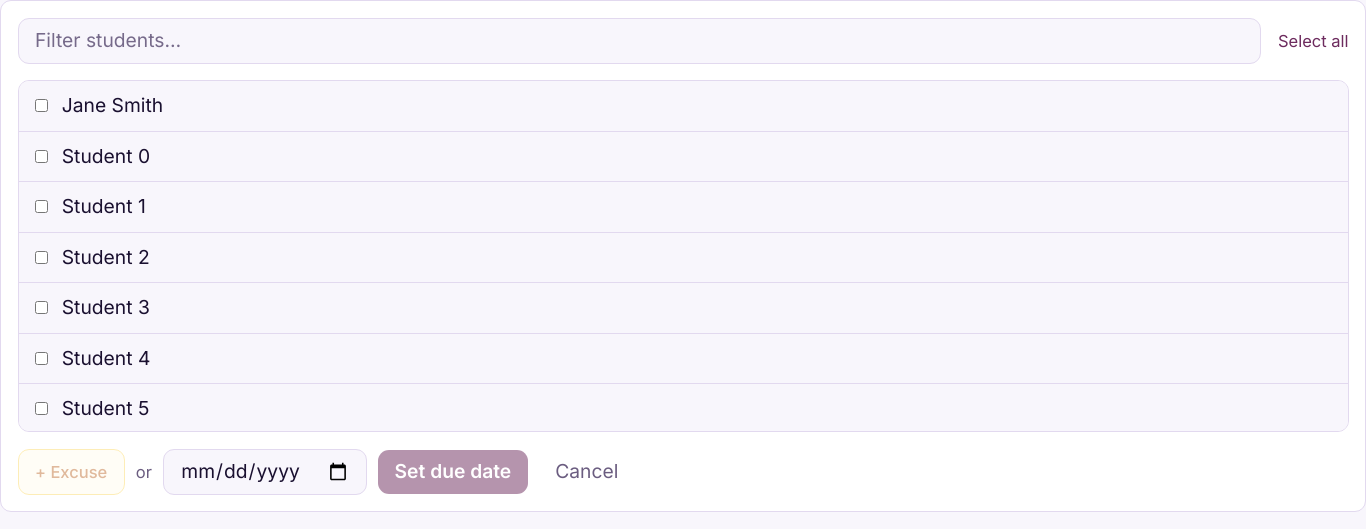
it: OverrideStudentChecklist › filters a long roster by name without losing ticks
The image size is (1366, 529).
Click the checkbox labelled "Student 3" at (42, 308), box [35,301,48,314]
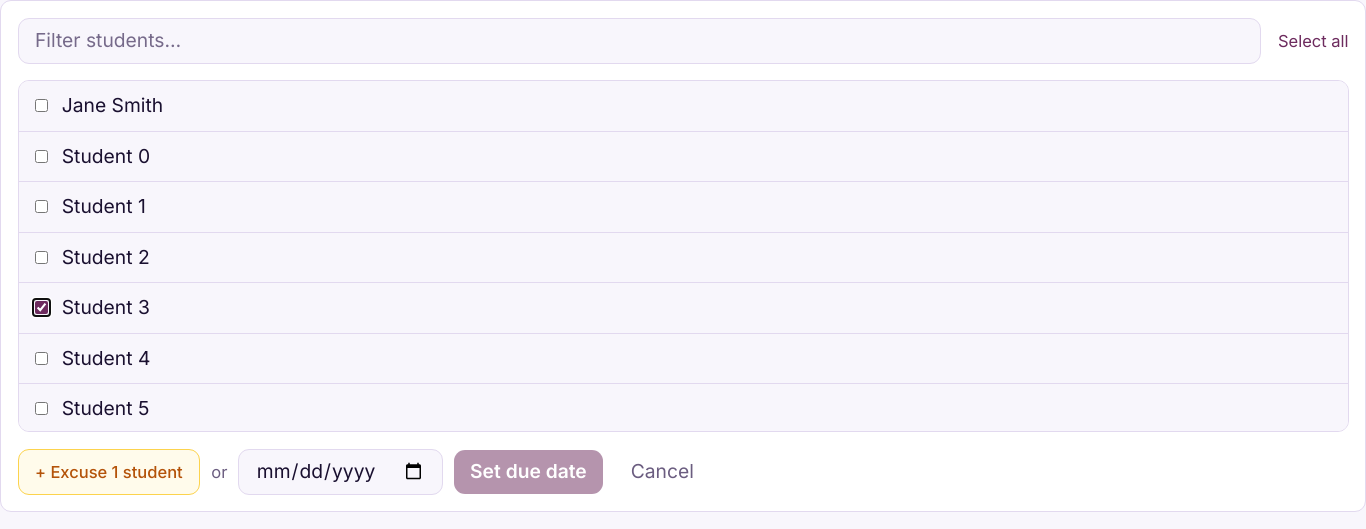
Type "jane" into the search field labelled "Filter students" at (640, 40), box [18,18,1262,64]
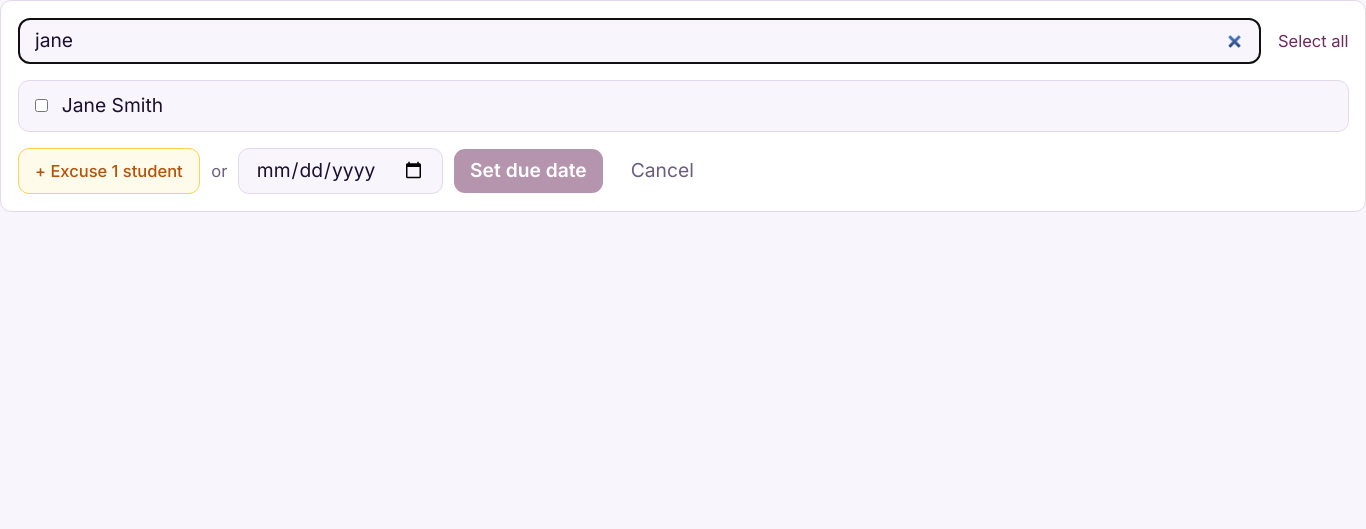
Expected: the label labelled "Student 3" is gone
Click the checkbox labelled "Jane Smith" at (42, 106), box [35,99,48,112]
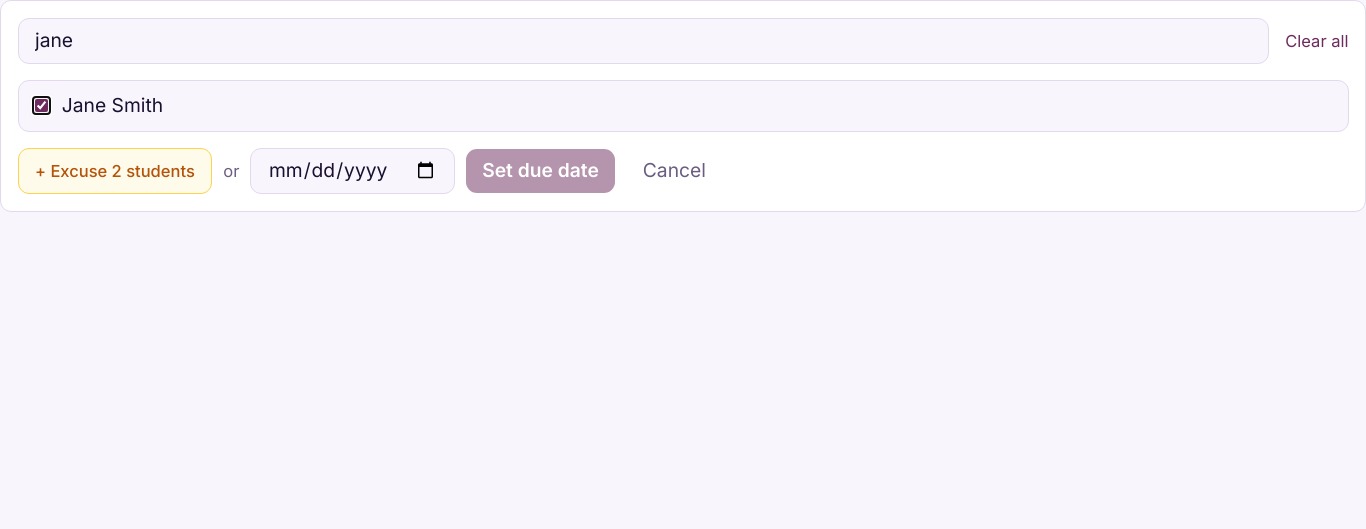
Expected: the button "+ Excuse 2 students" is shown, [18,148,212,194]
